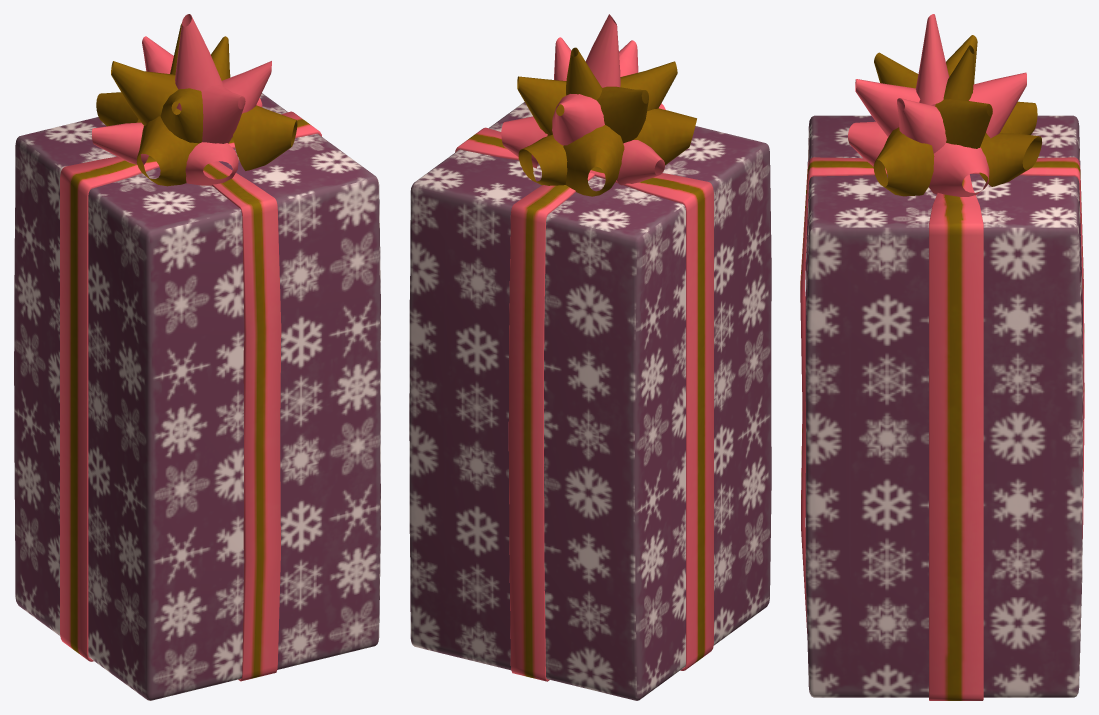
Rendered from GiftBox.dae.
3 renders of one model, left to right at view 1: azimuth 30°, elevation 25°; view 2: azimuth 150°, elevation 25°; view 3: azimuth 270°, elevation 25°, orthographic.
Visible parts, largest first — view 1: Present; view 2: Present; view 3: Present.
Boxes of the visible parts, box(x1,y1,x2,y2) form: Present: box(14, 14, 380, 700); Present: box(409, 14, 771, 700); Present: box(800, 14, 1084, 700).
Size of the model in its own units: 0.0676 by 0.0703 by 0.1705.
